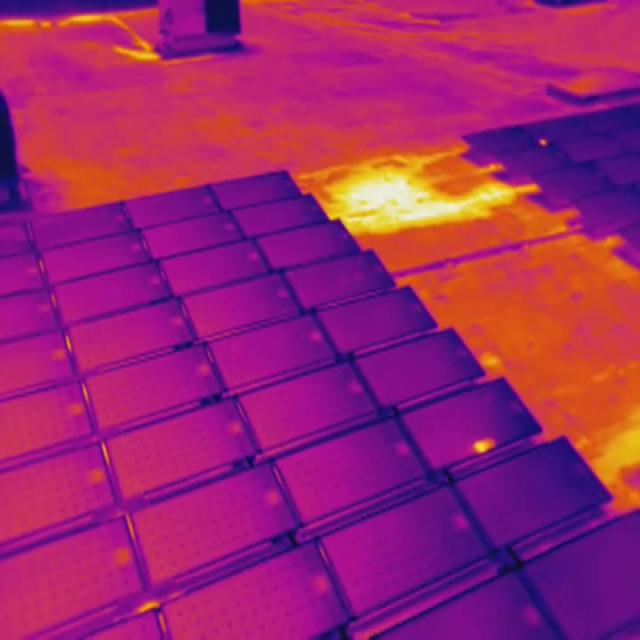Orange-Spots: (474, 436, 496, 455), (540, 138, 548, 147)
